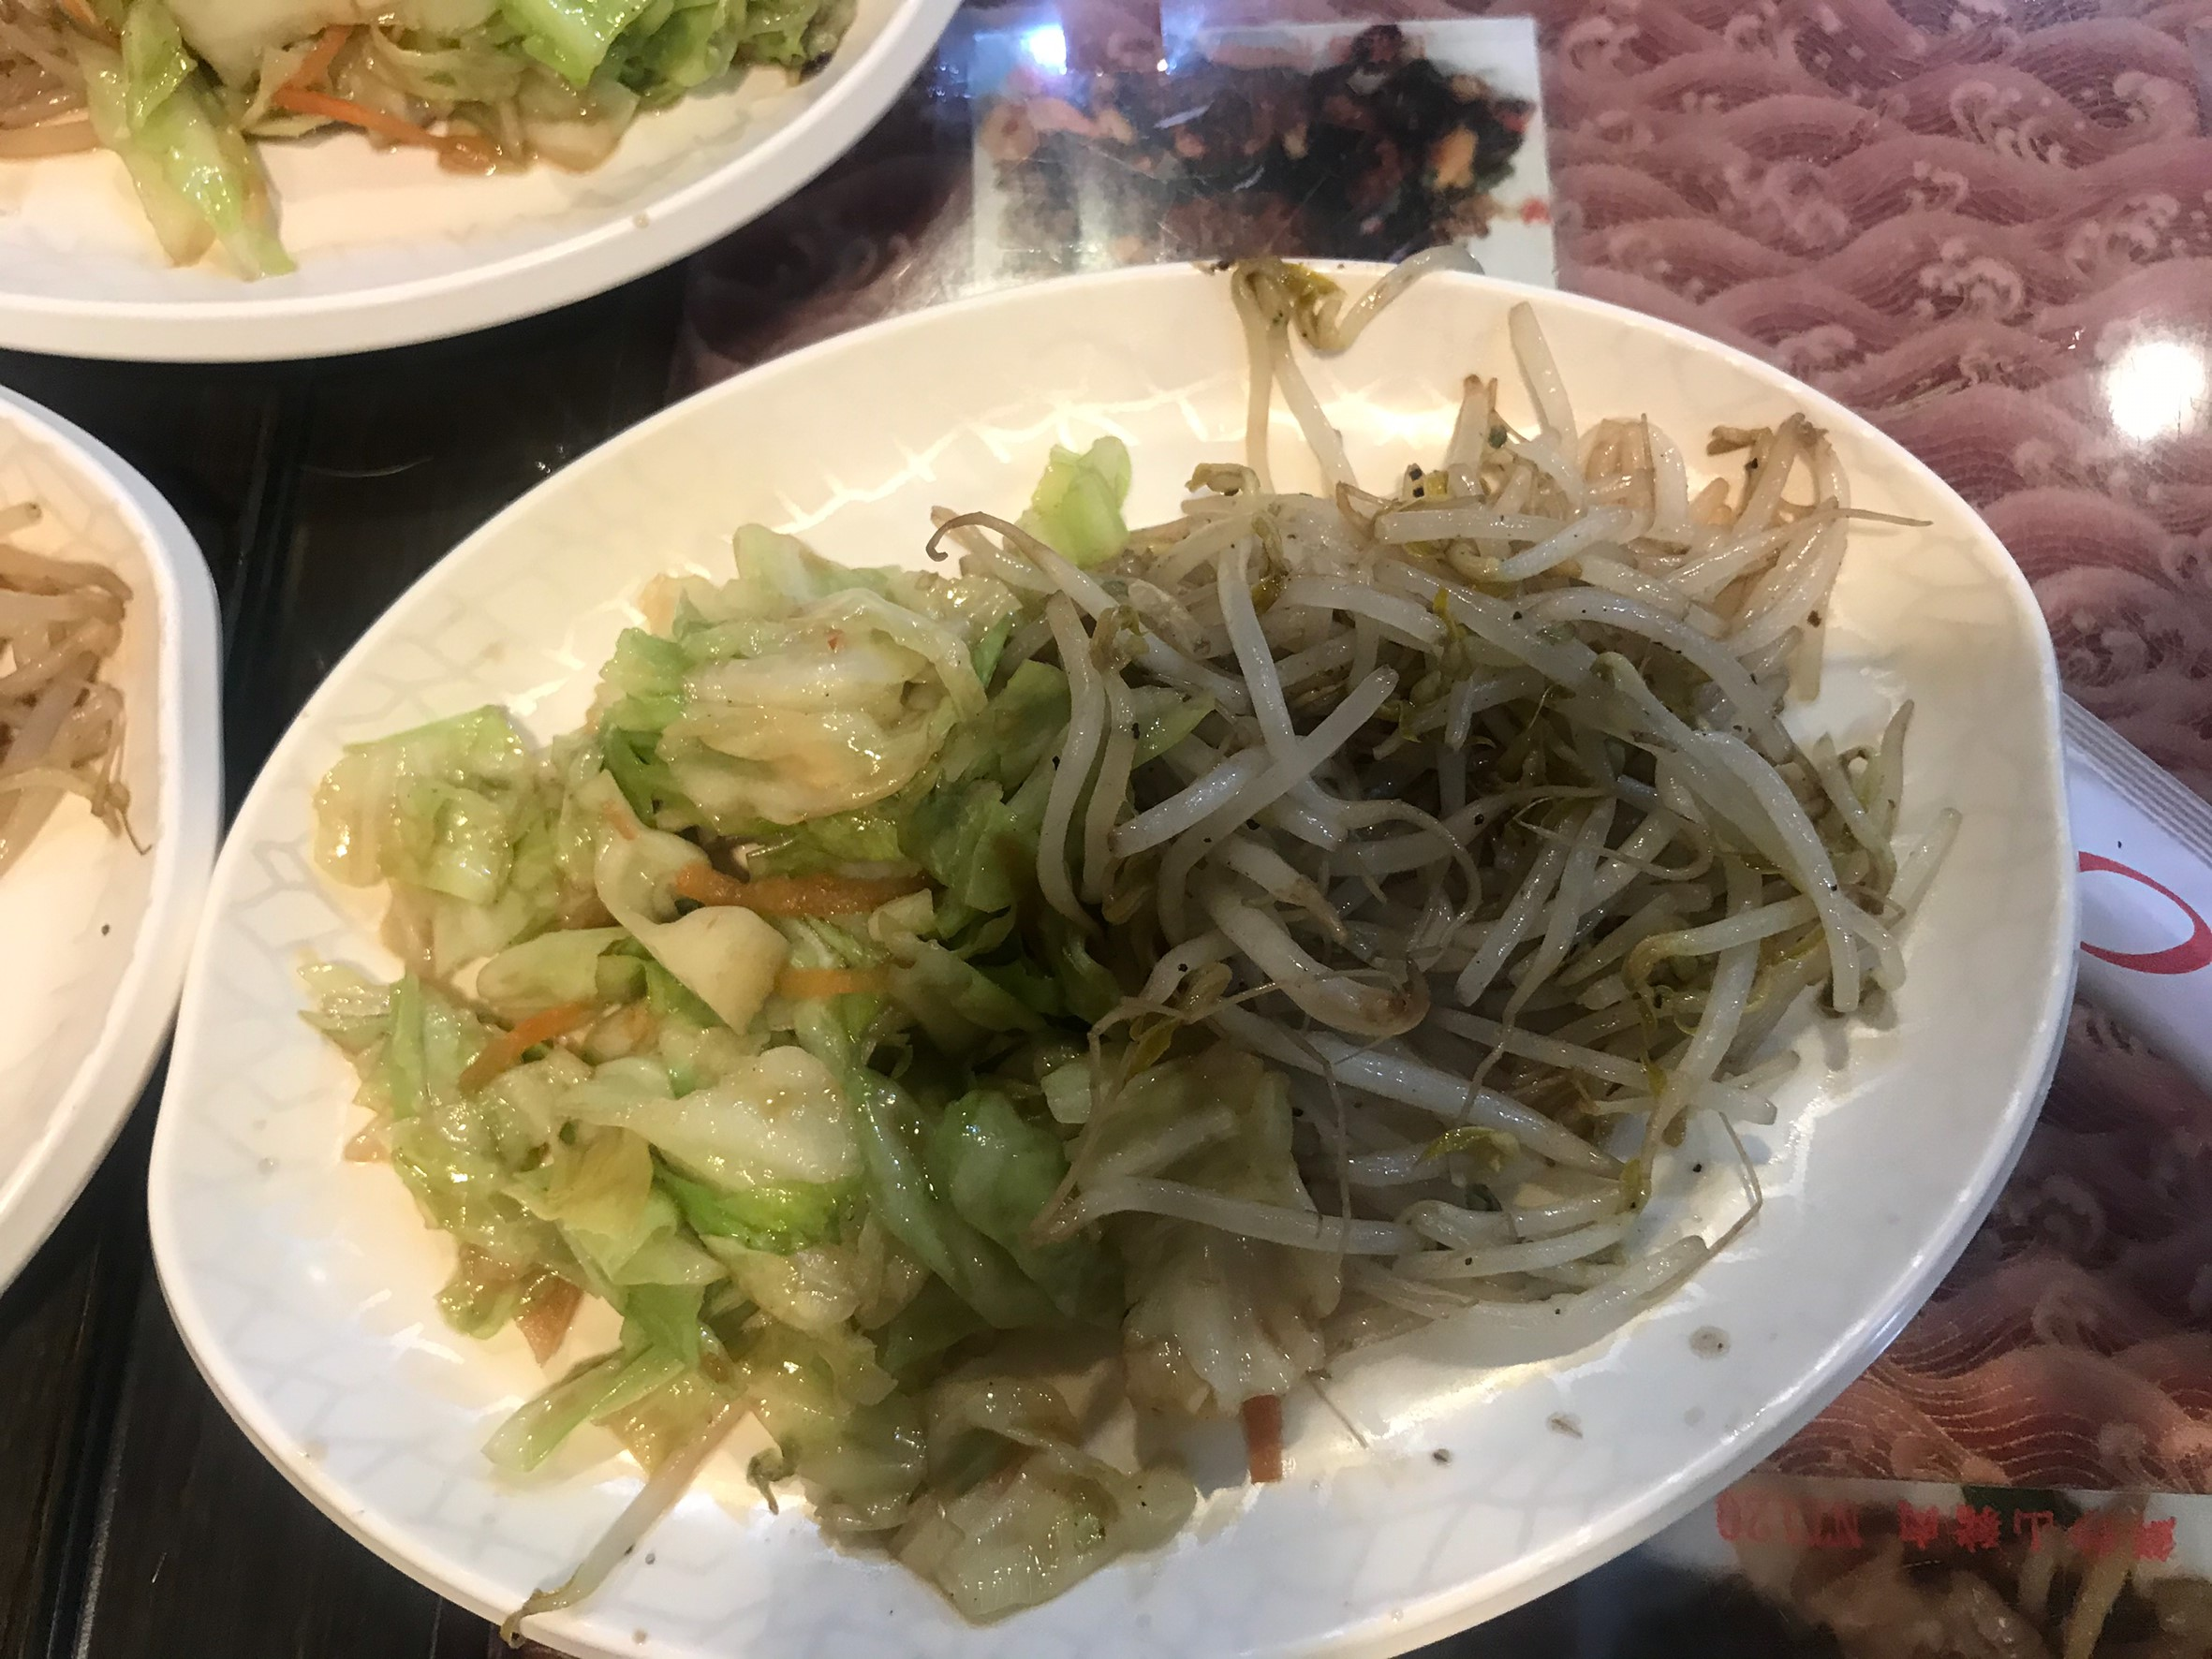chinese_cabbage: (307, 427, 1100, 1605), (106, 2, 831, 258)
mung_bean_sprouts: (1088, 336, 1937, 1384)
